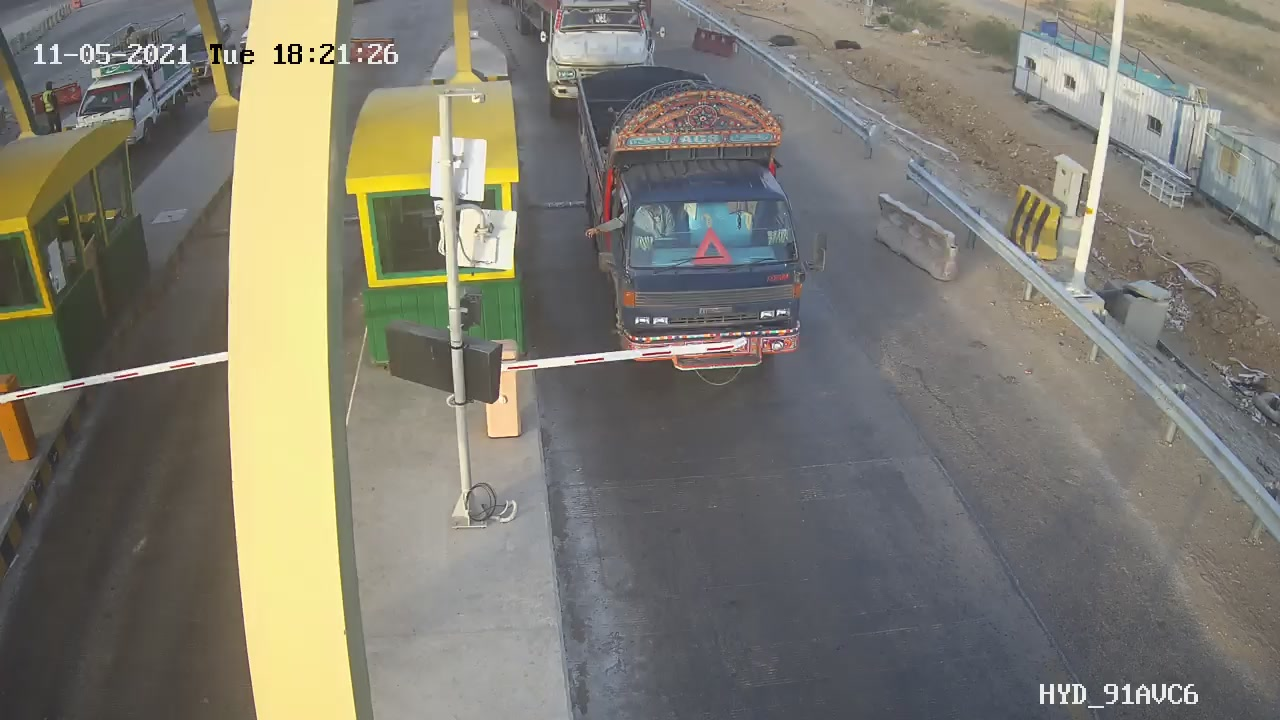F5: (573, 86, 826, 381)
